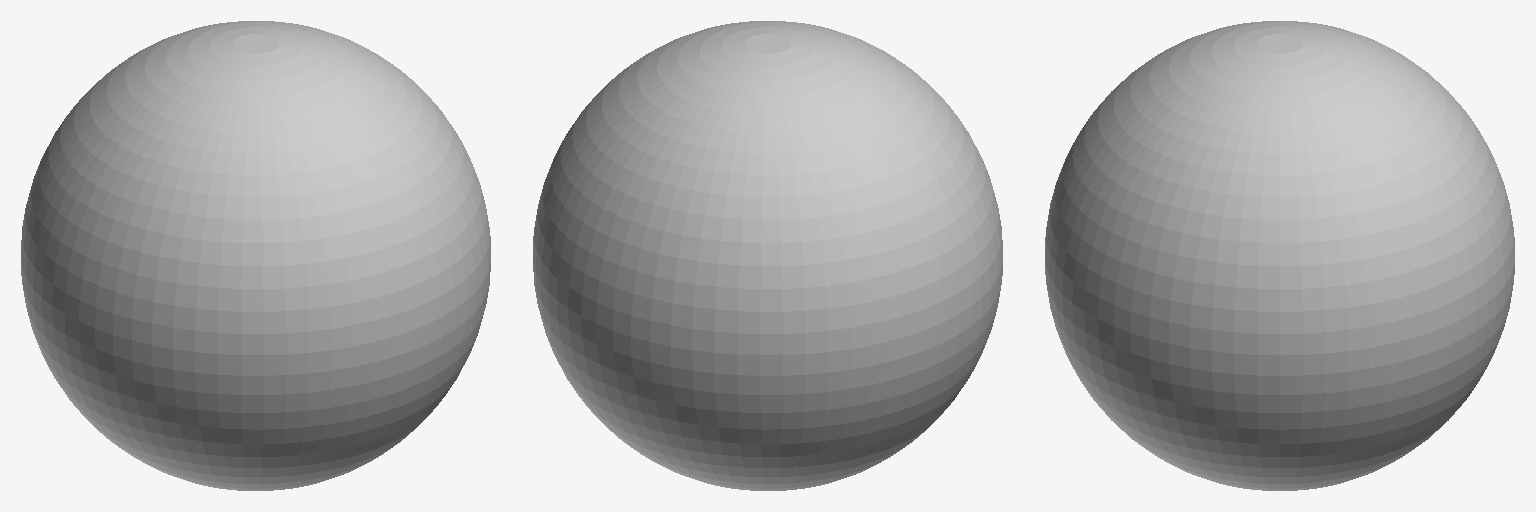
Rendered from ball12.obj.
The picture shows the model from 3 angles: view 1: azimuth 30°, elevation 25°; view 2: azimuth 150°, elevation 25°; view 3: azimuth 270°, elevation 25°; orthographic projection.
Visible parts, largest first — view 1: planet_Sphere.014; view 2: planet_Sphere.014; view 3: planet_Sphere.014.
Boxes of the visible parts, x1,y1,x2,y2 form: planet_Sphere.014: [21, 21, 490, 490]; planet_Sphere.014: [533, 21, 1002, 490]; planet_Sphere.014: [1045, 21, 1514, 490].
Size of the model in its own units: 0.2214 by 0.2204 by 0.2214.